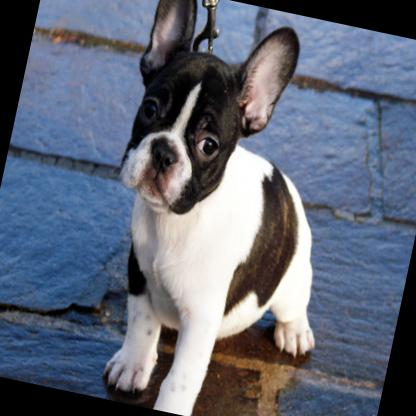French_bulldog: (68, 0, 380, 416)
